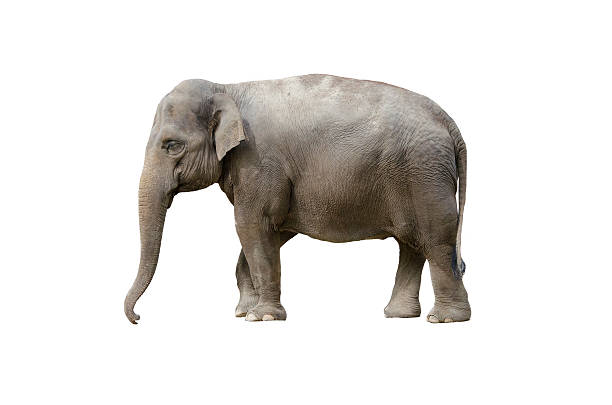africanelephant: (121, 79, 243, 201)
